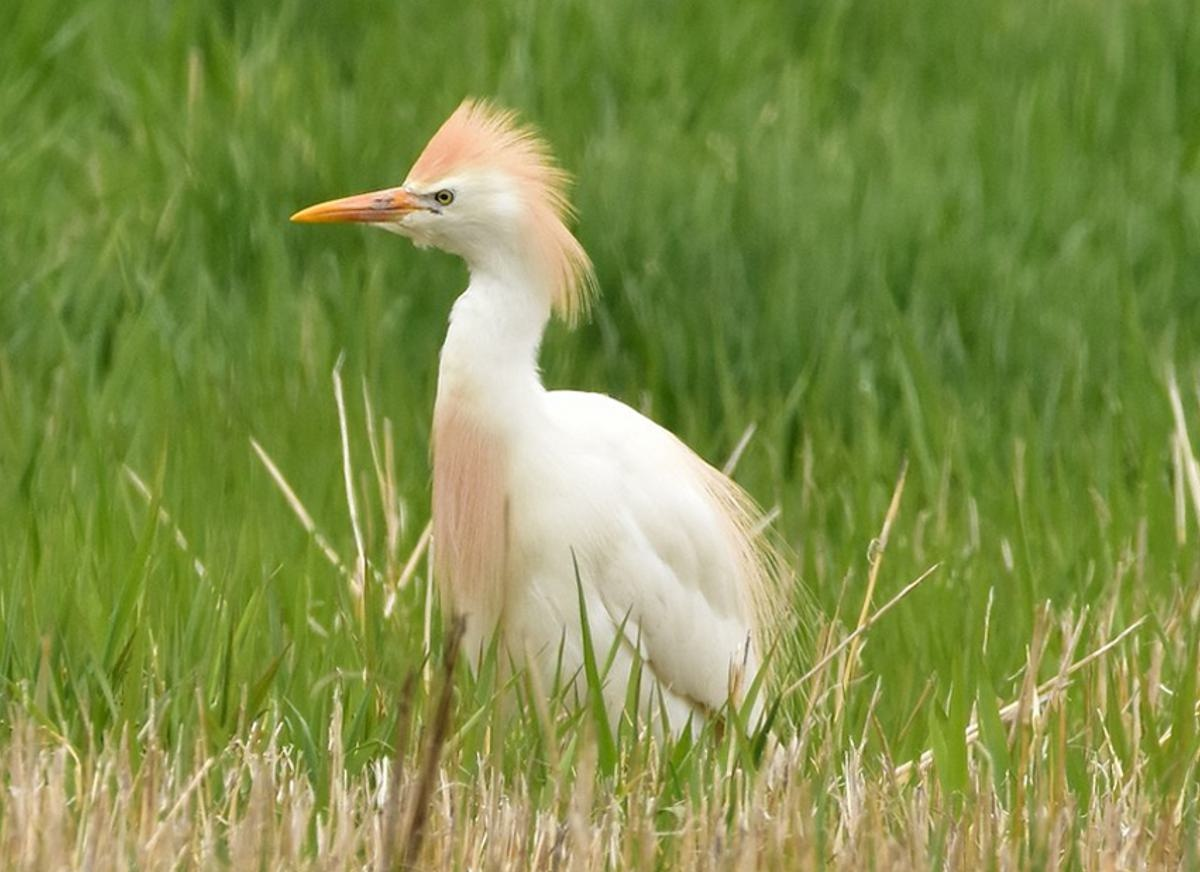egret: (290, 94, 796, 723)
